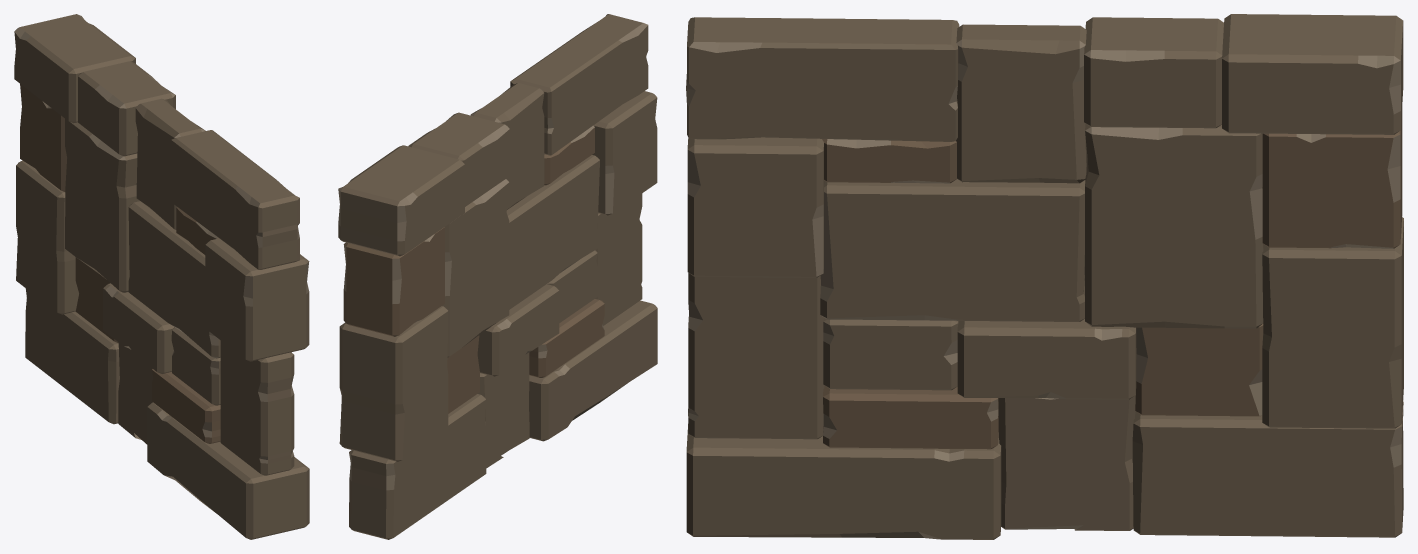
File: crypt_wall_east_1_lev3.glb
The picture shows the model from 3 angles, left to right: view 1: azimuth 30°, elevation 25°; view 2: azimuth 150°, elevation 25°; view 3: azimuth 270°, elevation 25°; orthographic projection. The views are drawn at different scales.
Parts seen in each view (by area): view 1: crypt_wall_east_1_lev3; view 2: crypt_wall_east_1_lev3; view 3: crypt_wall_east_1_lev3.
Boxes of the visible parts, x1,y1,x2,y2 form: crypt_wall_east_1_lev3: (14, 14, 309, 539); crypt_wall_east_1_lev3: (338, 14, 657, 539); crypt_wall_east_1_lev3: (686, 14, 1403, 539).
Bounding box in the file's own units: 1.38 × 5.93 × 7.87.
